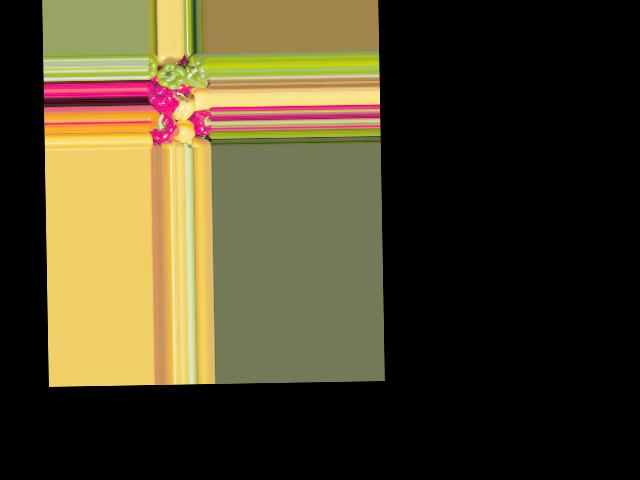bell_pepper: (146, 53, 161, 79)
